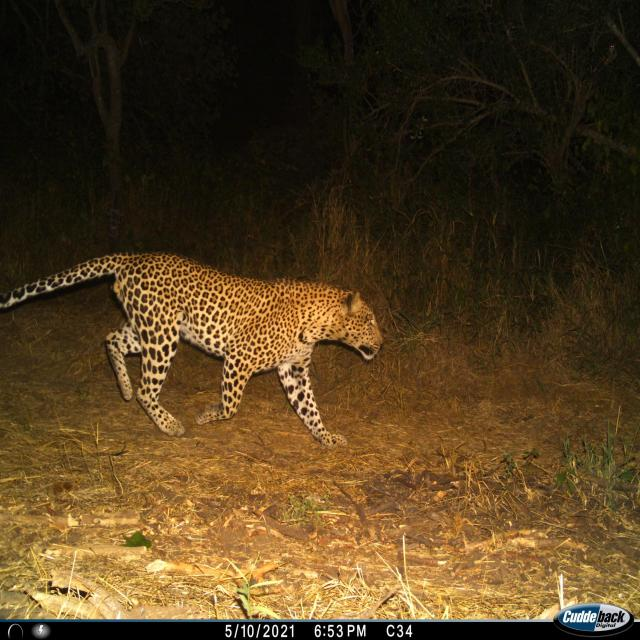Leopard: (6, 238, 370, 444)
